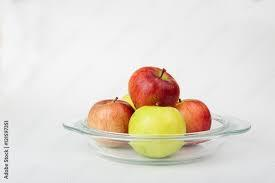Apple: (129, 106, 186, 158), (86, 99, 137, 147), (129, 67, 180, 113), (169, 99, 212, 146)
